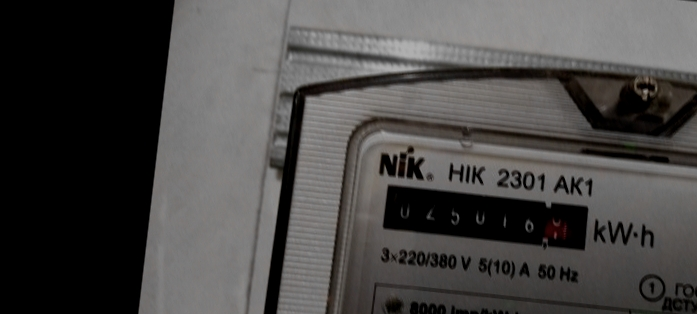0: (474, 201, 491, 226), (398, 197, 414, 220), (550, 205, 565, 226)
1: (499, 203, 513, 229), (551, 228, 560, 240)
2: (424, 197, 440, 221)
5: (449, 203, 462, 225)
6: (522, 209, 538, 235)
screen: (373, 172, 601, 258)
